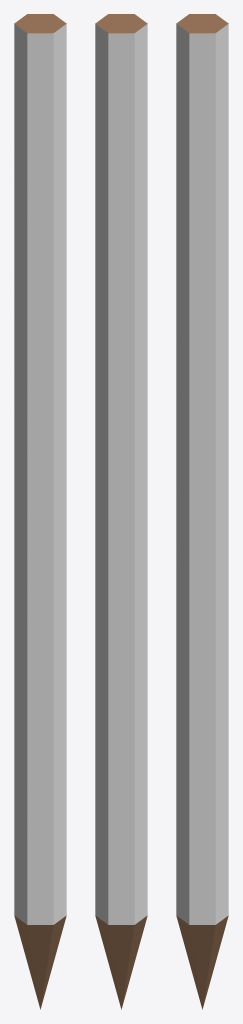
The model's file is pen2.fbx.
3 views of the same model, side by side, from view 1: azimuth 90°, elevation 25°; view 2: azimuth 150°, elevation 25°; view 3: azimuth 270°, elevation 25° (orthographic).
Visible parts, largest first — view 1: Cylinder; view 2: Cylinder; view 3: Cylinder.
Boxes of the visible parts, x1,y1,x2,y2 form: Cylinder: [14, 14, 66, 1009]; Cylinder: [95, 14, 147, 1009]; Cylinder: [176, 14, 228, 1009].
Bounding box in the file's own units: 0.0316 × 0.7555 × 0.0365.
